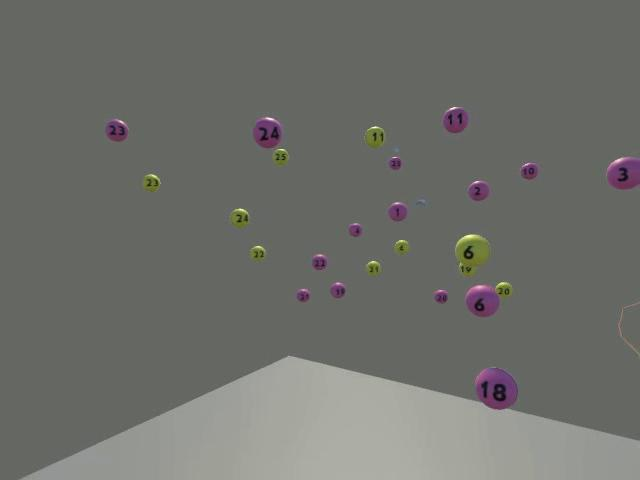ball_01_pink: (388, 200, 407, 220)
ball_02_pink: (467, 180, 489, 200)
ball_03_pink: (606, 156, 639, 189)
ball_04_pink: (349, 224, 363, 237)
ball_04_yellow: (393, 239, 409, 254)
ball_06_pink: (465, 285, 499, 316)
ball_06_yellow: (454, 233, 490, 268)
ball_10_pink: (519, 162, 538, 179)
ball_11_pink: (442, 106, 469, 134)
ball_11_yellow: (364, 126, 385, 148)
ball_18_pink: (474, 367, 517, 409)
ball_19_pink: (329, 281, 346, 299)
ball_19_yellow: (458, 263, 475, 276)
ball_20_pink: (435, 289, 448, 303)
ball_20_yellow: (494, 281, 512, 297)
ball_21_pink: (296, 288, 310, 302)
ball_21_yellow: (365, 262, 381, 276)
ball_22_pink: (311, 254, 328, 270)
ball_22_yellow: (248, 246, 266, 262)
ball_23_pink: (105, 118, 128, 141)
ball_23_yellow: (142, 174, 160, 191)
ball_24_pink: (252, 117, 282, 148)
ball_24_yellow: (229, 208, 249, 227)
ball_25_pink: (388, 156, 401, 169)
ball_25_yellow: (272, 148, 288, 165)
